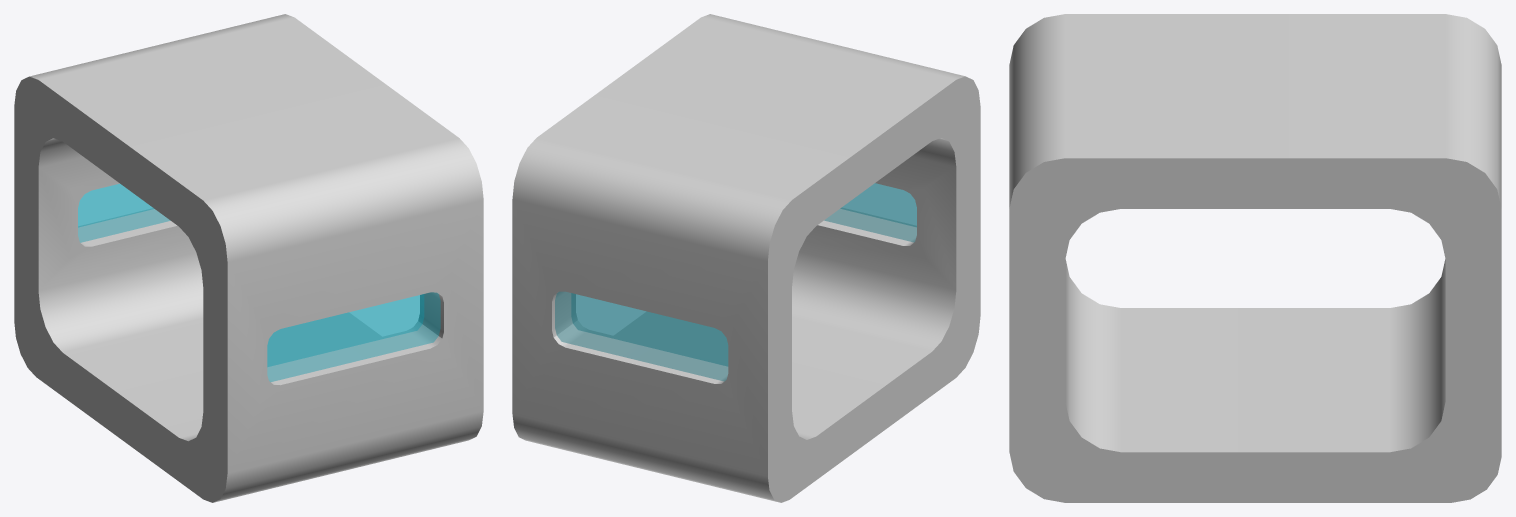
File: Hallway_Transition_Middle_Window.fbx
3 views of the same model, side by side, from view 1: azimuth 30°, elevation 25°; view 2: azimuth 150°, elevation 25°; view 3: azimuth 270°, elevation 25° (orthographic). The views are drawn at different scales.
Parts seen in each view (by area): view 1: Hallway_Transition_Middle_Window, Hallway_Window3, Hallway_Window4; view 2: Hallway_Transition_Middle_Window, Hallway_Window4, Hallway_Window3; view 3: Hallway_Transition_Middle_Window.
Boxes of the visible parts, x1,y1,x2,y2 form: Hallway_Transition_Middle_Window: (14, 14, 483, 502); Hallway_Window3: (267, 292, 440, 381); Hallway_Window4: (78, 184, 170, 242); Hallway_Transition_Middle_Window: (512, 14, 980, 502); Hallway_Window4: (555, 292, 728, 381); Hallway_Window3: (824, 183, 916, 242); Hallway_Transition_Middle_Window: (1009, 14, 1501, 502).
Size of the model in its own units: 6.28 by 9.05 by 7.
